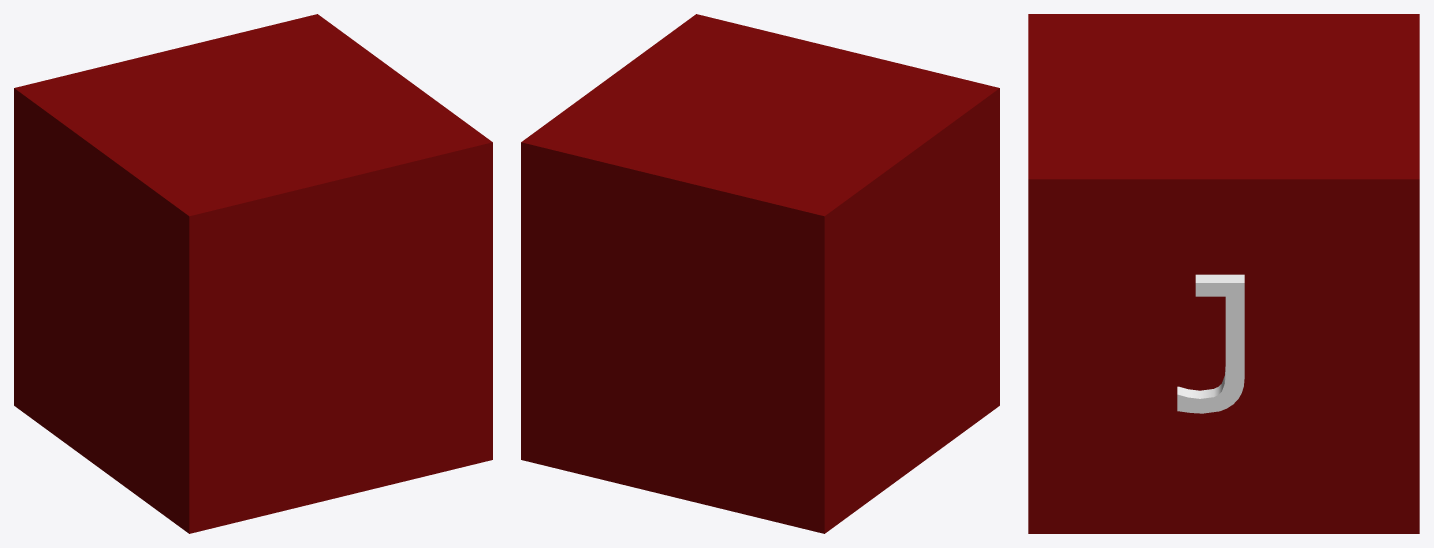
3 views of the same model, side by side, from view 1: azimuth 30°, elevation 25°; view 2: azimuth 150°, elevation 25°; view 3: azimuth 270°, elevation 25° (orthographic). The views are drawn at different scales.
Visible parts, largest first — view 1: SketchUp; view 2: SketchUp; view 3: SketchUp, J.
Boxes of the visible parts, x1=… form: SketchUp: x1=14, y1=14, x2=492, y2=533; SketchUp: x1=521, y1=14, x2=999, y2=533; SketchUp: x1=1028, y1=14, x2=1419, y2=533; J: x1=1177, y1=274, x2=1244, y2=413.
Size of the model in its own units: 21 by 20 by 20.
